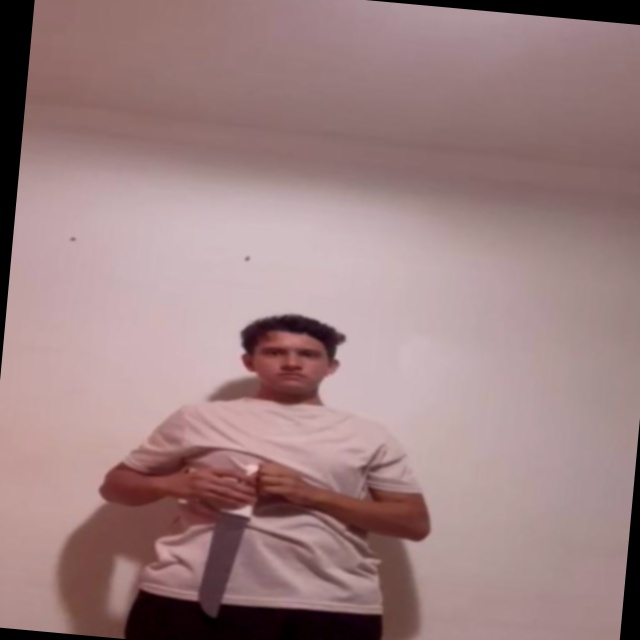Sharp-Object: (193, 514, 249, 623)
